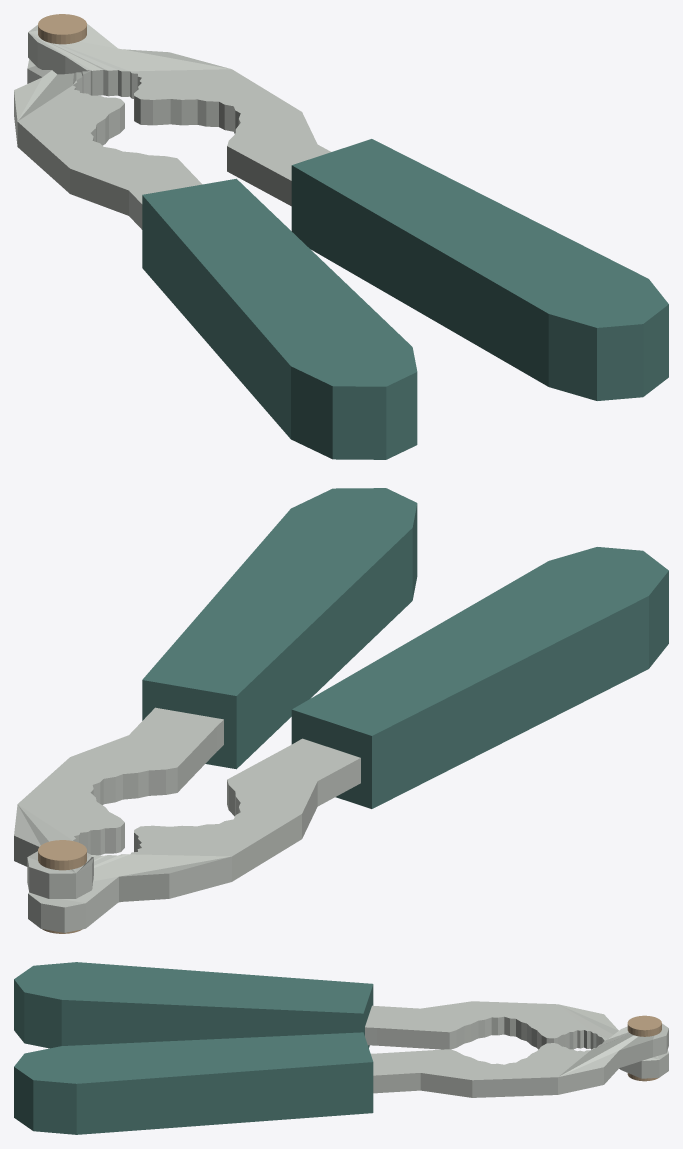
The picture shows the model from 3 angles, top to bottom: view 1: azimuth 30°, elevation 25°; view 2: azimuth 150°, elevation 25°; view 3: azimuth 270°, elevation 25°; orthographic projection. The views are drawn at different scales.
Parts seen in each view (by area): view 1: WholeRightGripSleeve, WholeLeftGripSleeve, WholeRightSteppedHingeScallopedJawAndHandle, WholeLeftSteppedHingeScallopedJawAndHandle, WholeEndHingePinAndTwoRetainingHeads; view 2: WholeLeftGripSleeve, WholeRightGripSleeve, WholeLeftSteppedHingeScallopedJawAndHandle, WholeRightSteppedHingeScallopedJawAndHandle, WholeEndHingePinAndTwoRetainingHeads; view 3: WholeRightGripSleeve, WholeLeftGripSleeve, WholeRightSteppedHingeScallopedJawAndHandle, WholeLeftSteppedHingeScallopedJawAndHandle, WholeEndHingePinAndTwoRetainingHeads.
Boxes of the visible parts, box(x1,y1,x2,y2) form: WholeRightGripSleeve: box(291, 139, 668, 400); WholeLeftGripSleeve: box(142, 178, 417, 459); WholeRightSteppedHingeScallopedJawAndHandle: box(28, 23, 330, 206); WholeLeftSteppedHingeScallopedJawAndHandle: box(14, 59, 202, 229); WholeEndHingePinAndTwoRetainingHeads: box(38, 14, 86, 44); WholeLeftGripSleeve: box(291, 547, 668, 808); WholeRightGripSleeve: box(142, 488, 417, 769); WholeLeftSteppedHingeScallopedJawAndHandle: box(28, 738, 360, 932); WholeRightSteppedHingeScallopedJawAndHandle: box(14, 707, 223, 898); WholeEndHingePinAndTwoRetainingHeads: box(38, 840, 86, 933); WholeRightGripSleeve: box(14, 1032, 373, 1134); WholeLeftGripSleeve: box(14, 962, 373, 1048); WholeRightSteppedHingeScallopedJawAndHandle: box(371, 1023, 668, 1097); WholeLeftSteppedHingeScallopedJawAndHandle: box(365, 1001, 668, 1078); WholeEndHingePinAndTwoRetainingHeads: box(627, 1015, 661, 1081).
Bounding box in the file's own units: 0.1177 × 0.023 × 0.2675.
